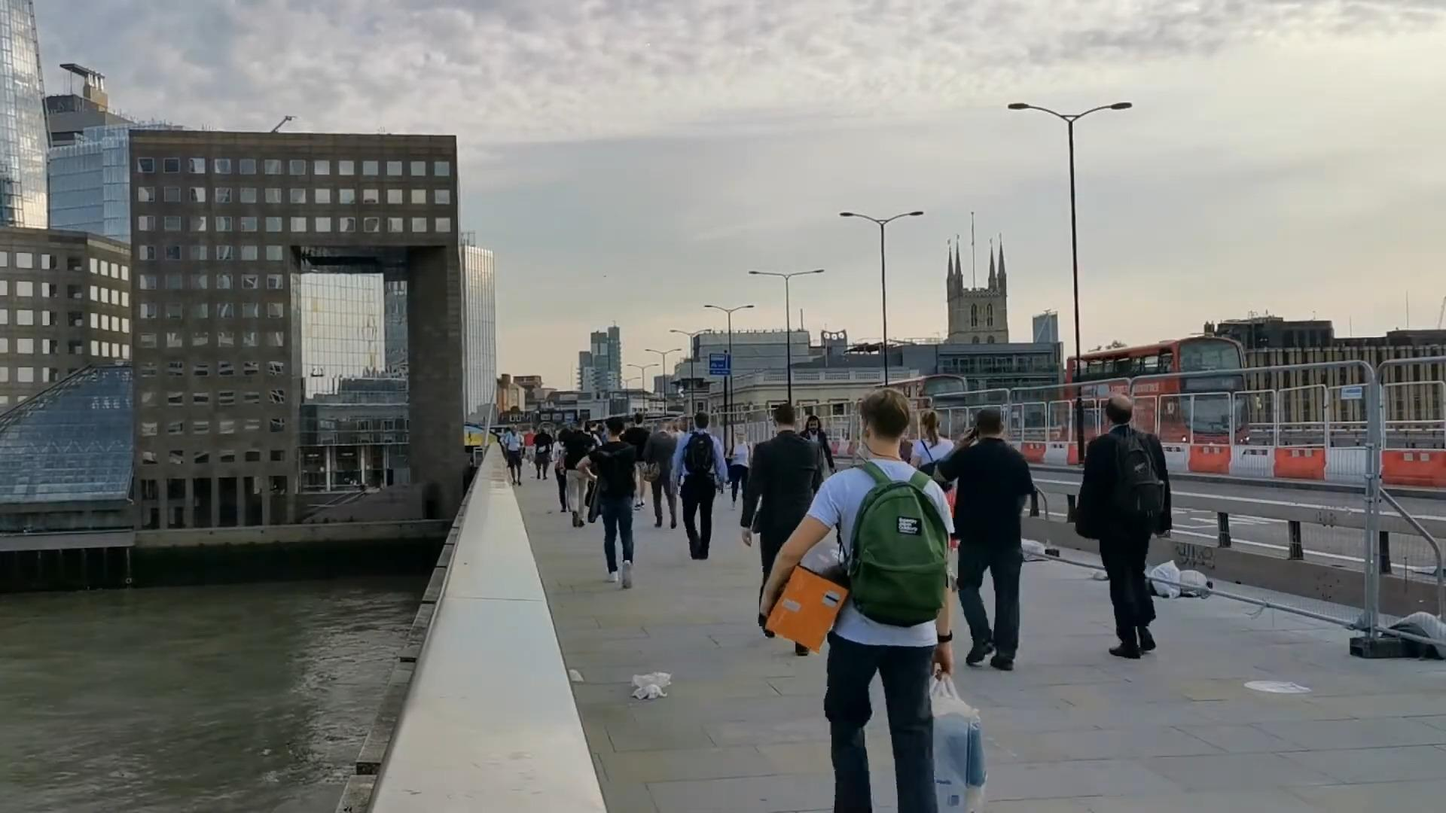no-helmet: (860, 387, 910, 450), (1105, 394, 1133, 429), (975, 407, 1004, 440), (773, 403, 795, 434), (921, 409, 942, 437), (605, 416, 625, 440), (805, 416, 822, 433), (695, 412, 709, 430), (634, 412, 643, 427)
